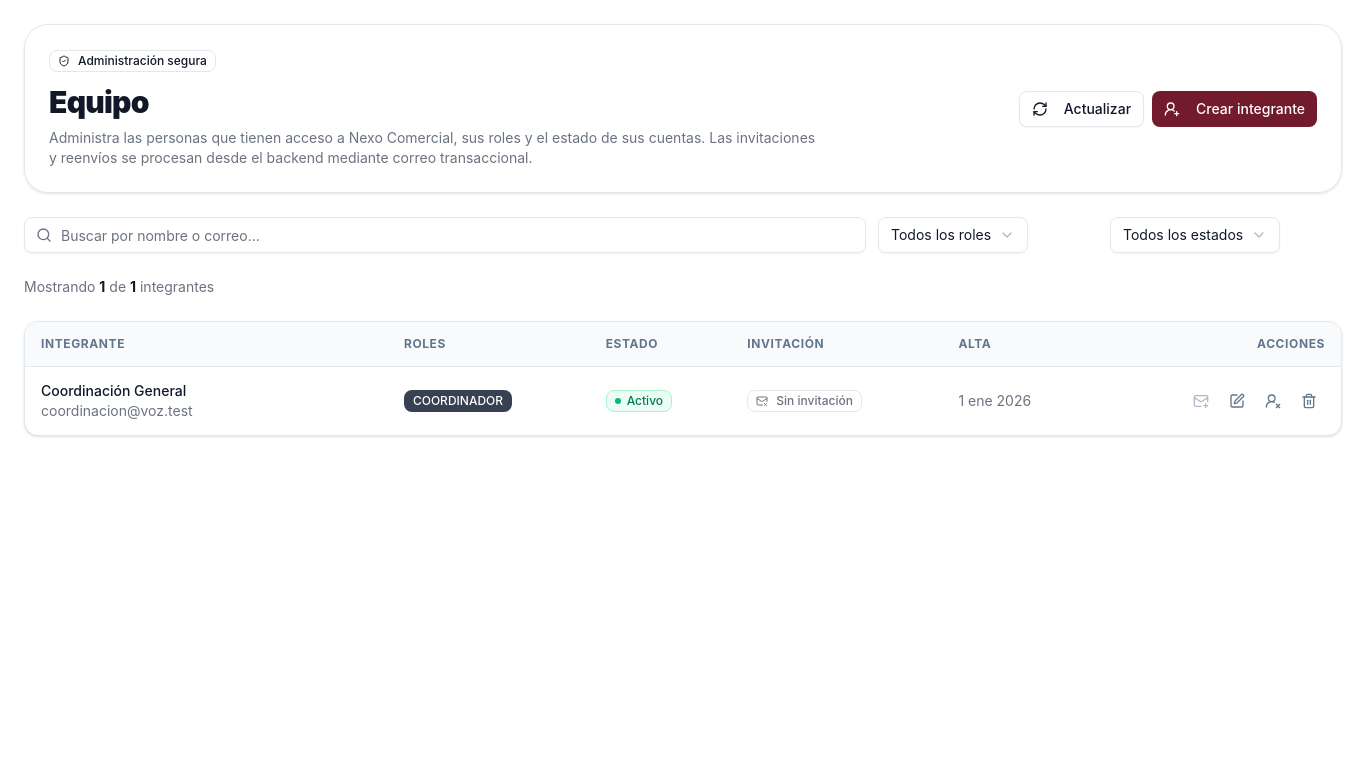
Test: TeamView destructive confirmations › asks for confirmation instead of deleting on the first click
Click the button named "eliminar coordinación general".
click(1309, 400)  # box [1293,384,1325,416]
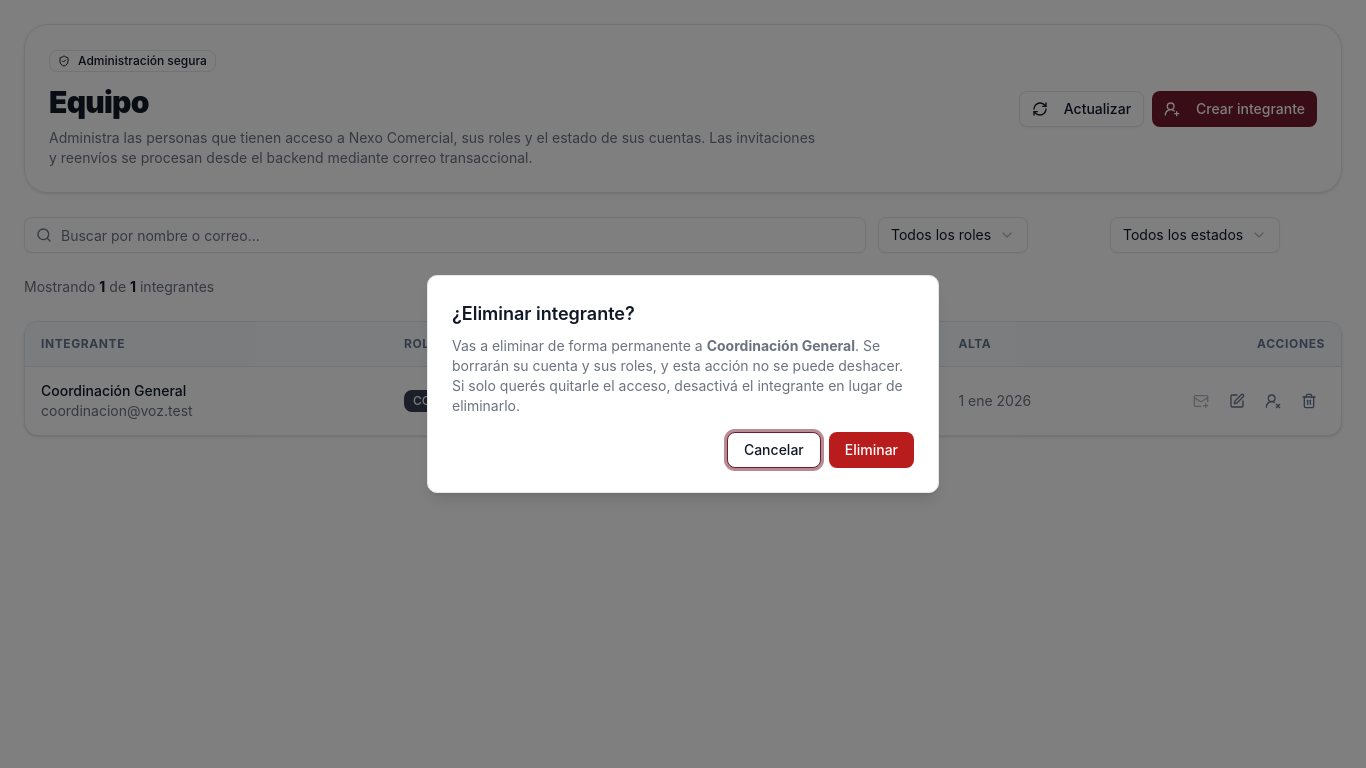
Result: the heading "¿Eliminar integrante?" is shown at [452,303,635,324]
